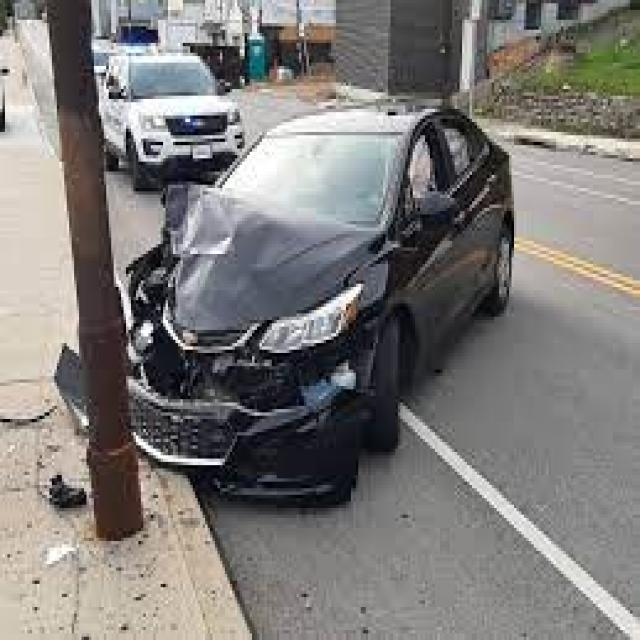accident: (62, 95, 574, 551)
